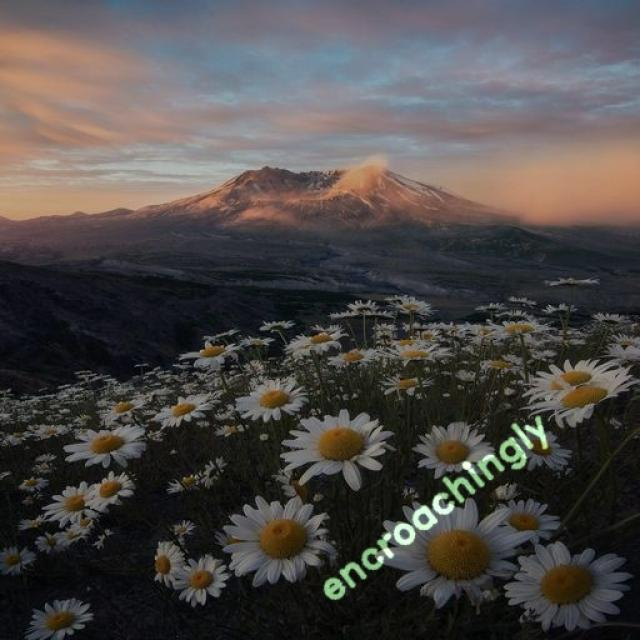watermark: (320, 400, 552, 609)
